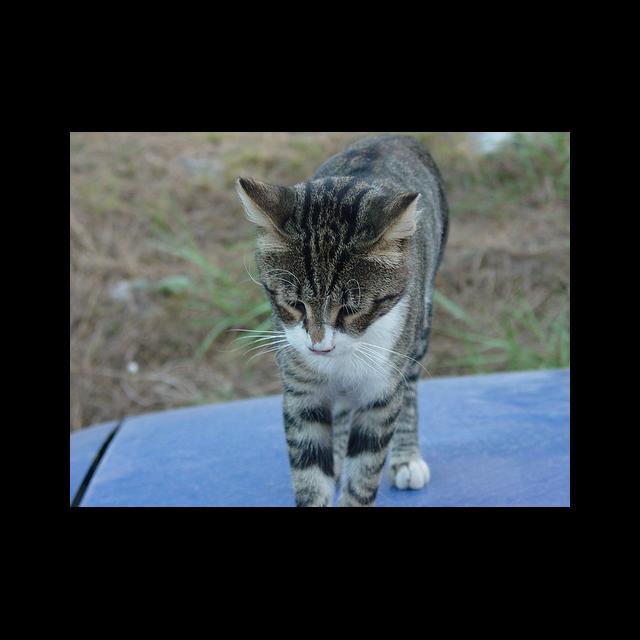animals: (239, 178, 416, 352)
